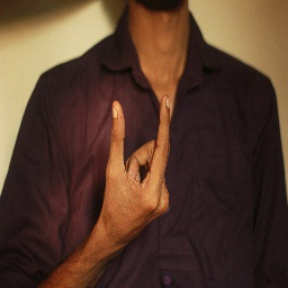U: (90, 90, 176, 229)
